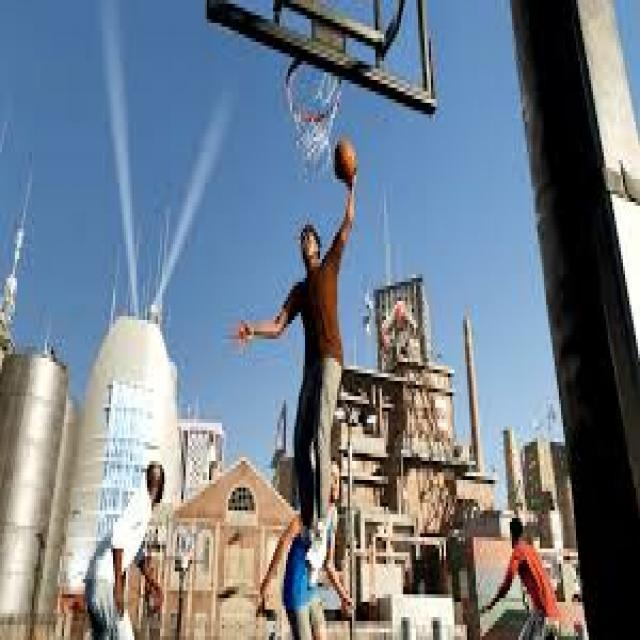rim: (334, 137, 356, 183)
